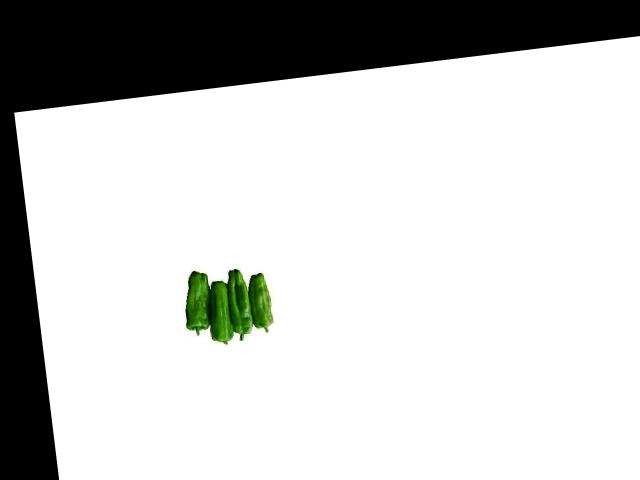bell_pepper: (179, 264, 215, 340)
